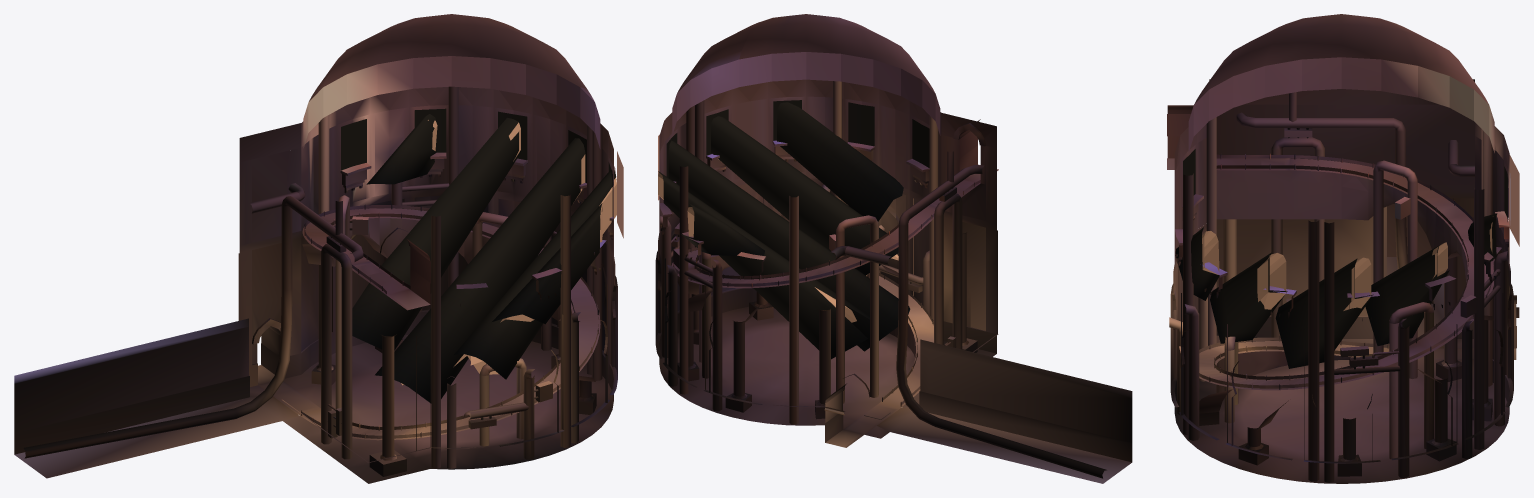
Rendered from 10Spiral.gltf.
3 views of the same model, side by side, from view 1: azimuth 30°, elevation 25°; view 2: azimuth 150°, elevation 25°; view 3: azimuth 270°, elevation 25° (orthographic). The views are drawn at different scales.
Parts seen in each view (by area): view 1: stg031_g36_Mesh_0000, stg031_o36_Mesh_0025, stg031_o36_Mesh_0001, stg031_o36_Mesh_0032, stg031_o36_Mesh_0011, stg031_o36_Mesh_0035, stg031_o36_Mesh_0015, stg031_o36_Mesh_0007, stg031_o36_Mesh_0006, stg031_o36_Mesh_0021, stg031_o36_Mesh_0040, stg031_o36_Mesh_0005 (+15 smaller); view 2: stg031_g36_Mesh_0000, stg031_o36_Mesh_0025, stg031_o36_Mesh_0001, stg031_o36_Mesh_0032, stg031_o36_Mesh_0035, stg031_o36_Mesh_0011, stg031_o36_Mesh_0015, stg031_o36_Mesh_0006, stg031_o36_Mesh_0007, stg031_o36_Mesh_0021, stg031_o36_Mesh_0004, stg031_o36_Mesh_0005 (+15 smaller); view 3: stg031_o36_Mesh_0025, stg031_o36_Mesh_0001, stg031_g36_Mesh_0000, stg031_o36_Mesh_0011, stg031_o36_Mesh_0015, stg031_o36_Mesh_0005, stg031_o36_Mesh_0007, stg031_o36_Mesh_0040, stg031_o36_Mesh_0004, stg031_p36_Mesh_0001, stg031_o36_Mesh_0024, stg031_o36_Mesh_0035 (+18 smaller).
Boxes of the visible parts, <box> form: stg031_g36_Mesh_0000: <box>341,108,616,403</box>; stg031_o36_Mesh_0025: <box>23,86,602,468</box>; stg031_o36_Mesh_0001: <box>239,87,617,483</box>; stg031_o36_Mesh_0032: <box>14,329,239,432</box>; stg031_o36_Mesh_0011: <box>252,56,600,344</box>; stg031_o36_Mesh_0035: <box>14,247,548,478</box>; stg031_o36_Mesh_0015: <box>309,14,594,101</box>; stg031_o36_Mesh_0007: <box>252,108,617,377</box>; stg031_o36_Mesh_0006: <box>14,268,613,454</box>; stg031_o36_Mesh_0021: <box>239,113,609,448</box>; stg031_o36_Mesh_0040: <box>302,208,600,440</box>; stg031_o36_Mesh_0005: <box>301,334,613,457</box>; stg031_g36_Mesh_0000: <box>658,100,929,359</box>; stg031_o36_Mesh_0025: <box>660,81,1106,478</box>; stg031_o36_Mesh_0001: <box>658,79,998,416</box>; stg031_o36_Mesh_0032: <box>929,349,1132,442</box>; stg031_o36_Mesh_0035: <box>722,174,1131,483</box>; stg031_o36_Mesh_0011: <box>672,52,985,397</box>; stg031_o36_Mesh_0015: <box>677,14,935,93</box>; stg031_o36_Mesh_0006: <box>659,145,1132,462</box>; stg031_o36_Mesh_0007: <box>655,97,985,342</box>; stg031_o36_Mesh_0021: <box>663,98,996,408</box>; stg031_o36_Mesh_0004: <box>745,337,869,390</box>; stg031_o36_Mesh_0005: <box>659,306,915,425</box>; stg031_o36_Mesh_0025: <box>1169,92,1507,482</box>; stg031_o36_Mesh_0001: <box>1170,79,1509,431</box>; stg031_g36_Mesh_0000: <box>1175,149,1507,368</box>; stg031_o36_Mesh_0011: <box>1188,57,1494,152</box>; stg031_o36_Mesh_0015: <box>1194,14,1488,104</box>; stg031_o36_Mesh_0005: <box>1180,370,1509,483</box>; stg031_o36_Mesh_0007: <box>1170,105,1513,390</box>; stg031_o36_Mesh_0040: <box>1199,159,1493,390</box>; stg031_o36_Mesh_0004: <box>1270,382,1413,443</box>; stg031_p36_Mesh_0001: <box>1199,154,1493,388</box>; stg031_o36_Mesh_0024: <box>1223,219,1488,460</box>; stg031_o36_Mesh_0035: <box>1167,159,1516,455</box>.
Bounding box in the file's own units: 90.53 × 59.95 × 51.3.
